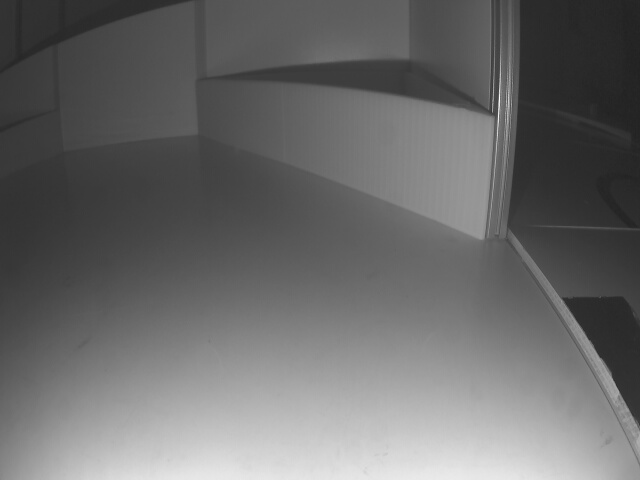Point: (197, 76, 482, 241), (0, 112, 58, 177)
